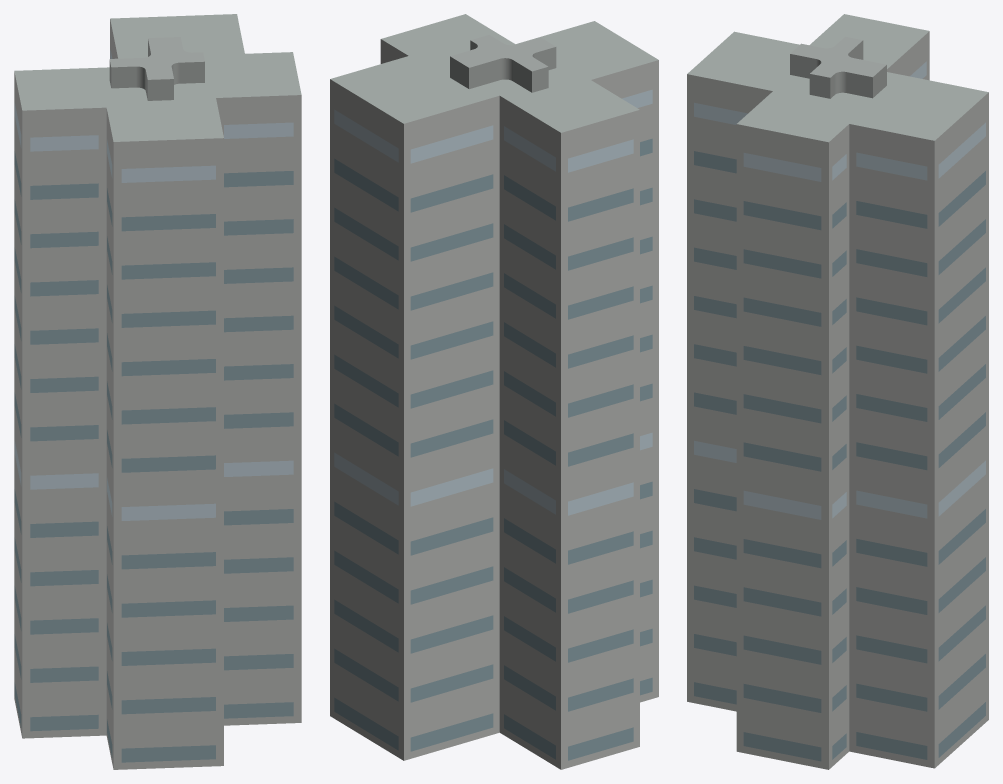
The model's file is fallback-prestige-103.glb.
3 renders of one model, left to right at view 1: azimuth 30°, elevation 25°; view 2: azimuth 150°, elevation 25°; view 3: azimuth 270°, elevation 25°, orthographic.
Visible parts, largest first — view 1: fallback-prestige-103; view 2: fallback-prestige-103; view 3: fallback-prestige-103.
Part boxes in pixels (x1,y1,x2,y2): fallback-prestige-103: (14,14,301,769); fallback-prestige-103: (330,14,658,769); fallback-prestige-103: (687,14,988,769).
Size of the model in its own units: 31.39 by 74 by 31.21.
